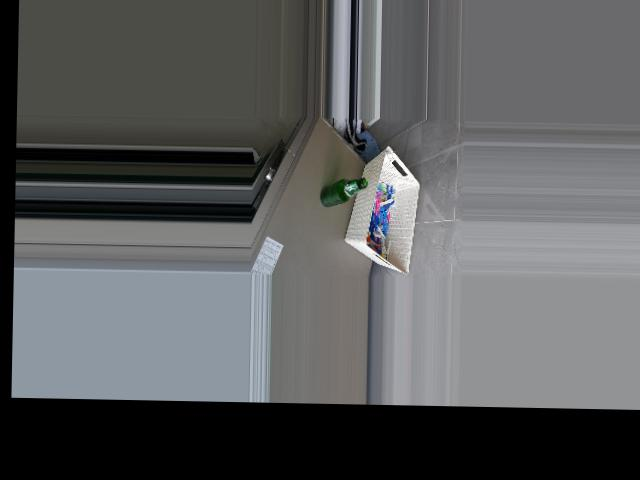beer: (319, 176, 367, 207)
